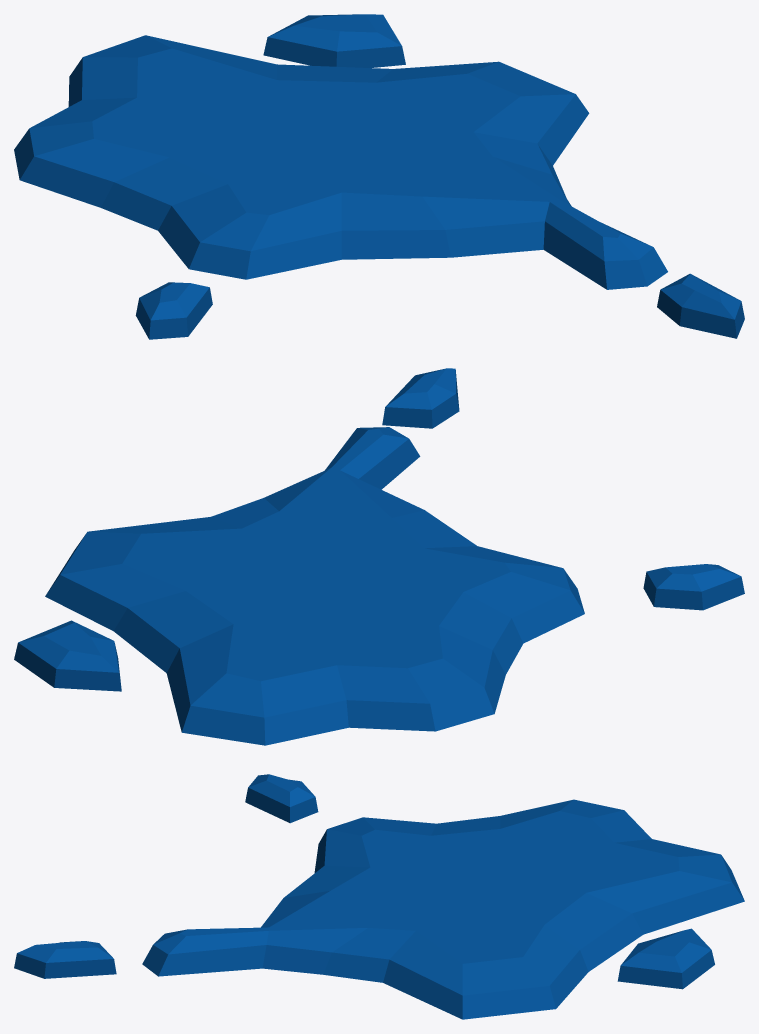
The model's file is Puddle.glb.
The picture shows the model from 3 angles, top to bottom: view 1: azimuth 30°, elevation 25°; view 2: azimuth 150°, elevation 25°; view 3: azimuth 270°, elevation 25°; orthographic projection. The views are drawn at different scales.
Parts seen in each view (by area): view 1: Circle; view 2: Circle; view 3: Circle.
Boxes of the visible parts, x1,y1,x2,y2 form: Circle: [14, 14, 744, 339]; Circle: [14, 368, 744, 745]; Circle: [14, 774, 744, 1019].
Size of the model in its own units: 0.8686 by 0.0577 by 1.17.
